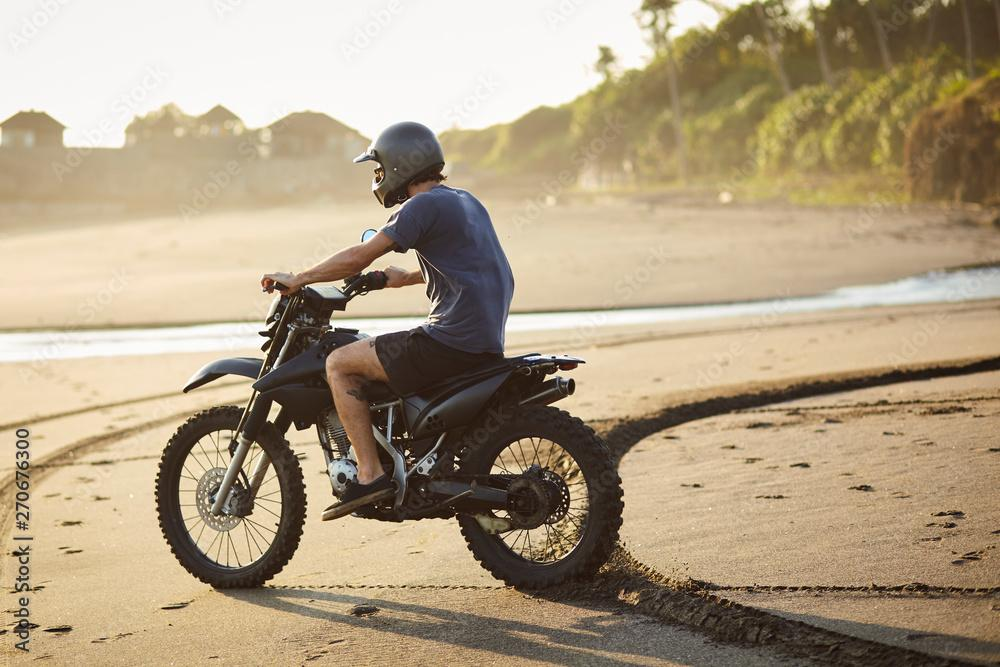helmet: (353, 120, 446, 209)
